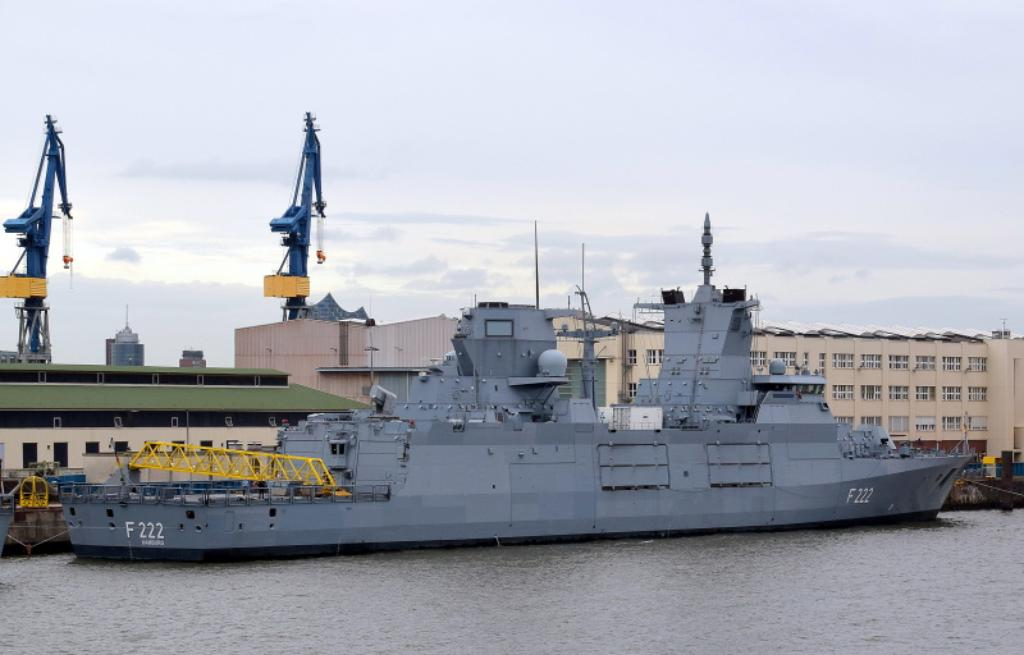Warship: (54, 203, 988, 566)
